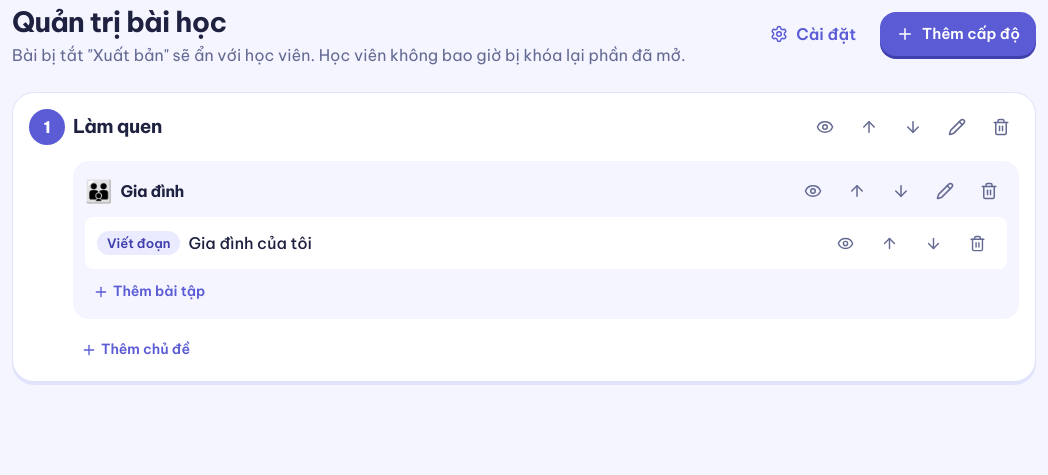
Test case: shows hide suggestion when delete is restricted
This screenshot has width=1048, height=475.
What coordinates should you click on to do the following:
click the button named "Xóa Gia đình của tôi"
I would click on:
 (977, 243)
Its box is x1=959 y1=225 x2=995 y2=261.
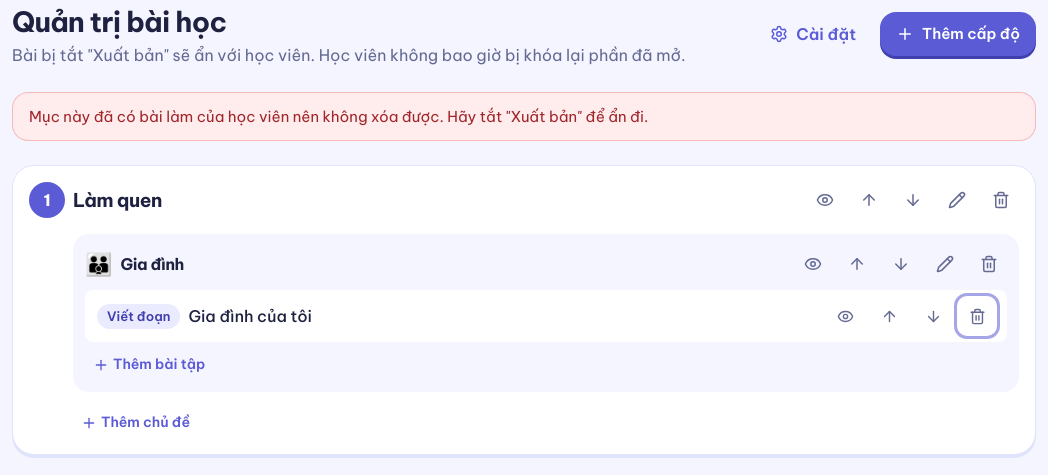
Check: the message shows "Hãy tắt \"Xuất bản\" để ẩn đi.", box x1=29 y1=107 x2=648 y2=126
